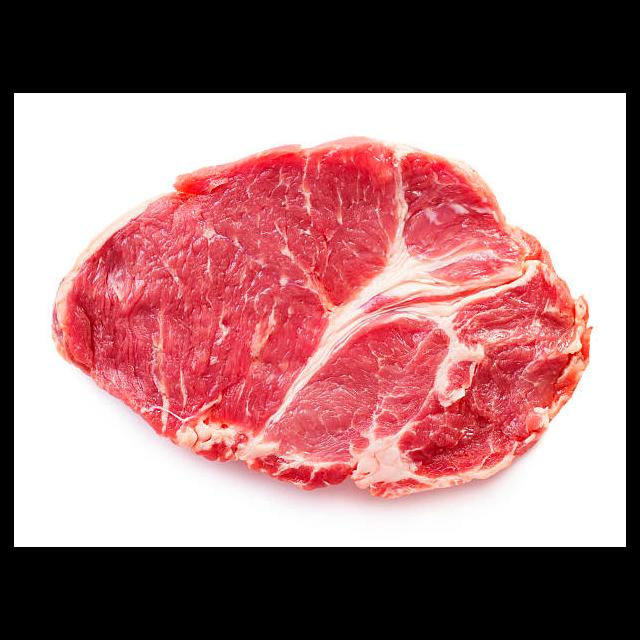beef: (50, 135, 593, 499)
